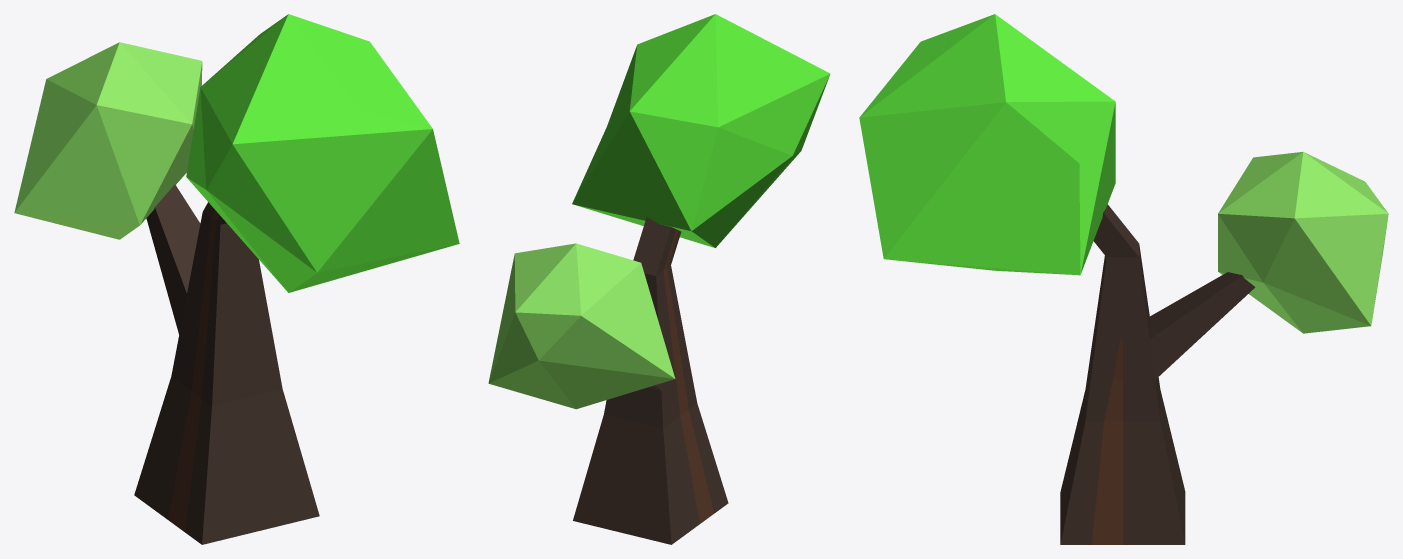
File: Tree_2.fbx
The picture shows the model from 3 angles, left to right: view 1: azimuth 30°, elevation 25°; view 2: azimuth 150°, elevation 25°; view 3: azimuth 270°, elevation 25°; orthographic projection. The views are drawn at different scales.
Visible parts, largest first — view 1: Icosphere, Cube, Icosphere.001; view 2: Icosphere, Icosphere.001, Cube; view 3: Icosphere, Cube, Icosphere.001.
Part boxes in pixels (box(x1,y1,x2,y2)): Icosphere: box(186, 14, 459, 292); Cube: box(134, 184, 319, 544); Icosphere.001: box(14, 42, 202, 239); Icosphere: box(572, 14, 830, 247); Icosphere.001: box(488, 243, 675, 409); Cube: box(573, 217, 728, 544); Icosphere: box(859, 14, 1115, 275); Cube: box(1060, 204, 1255, 544); Icosphere.001: box(1218, 152, 1388, 333).
Size of the model in its own units: 404 by 884 by 847.
